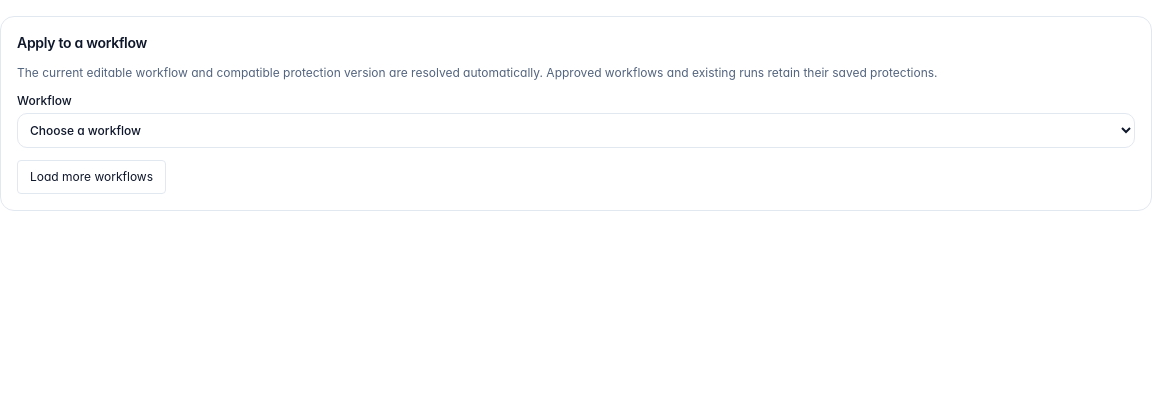
Scenario: selects a workflow without showing revisions and saves the server-resolved current pin
Click the button "Load more workflows": (92, 177) [17,160,166,194]
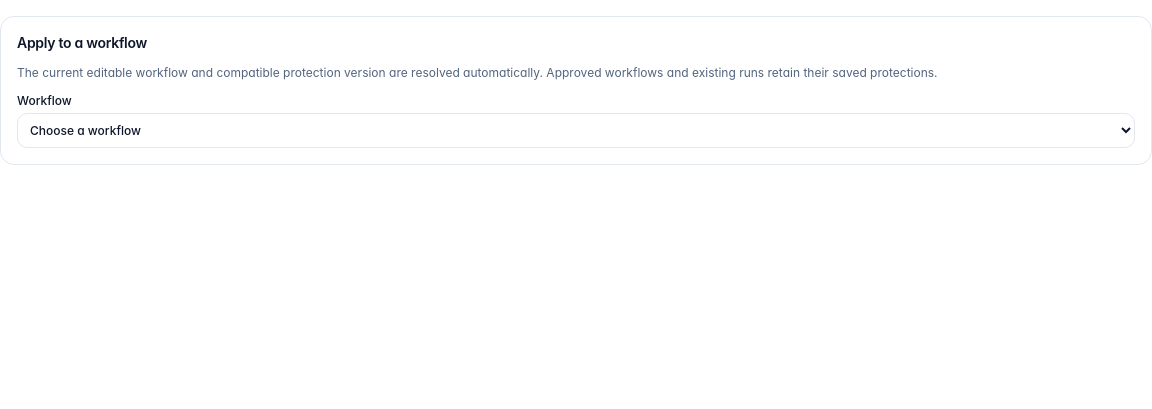
Select "Later draft" in the dropdown named "Guardrail workflow": (576, 130) [17,113,1135,148]
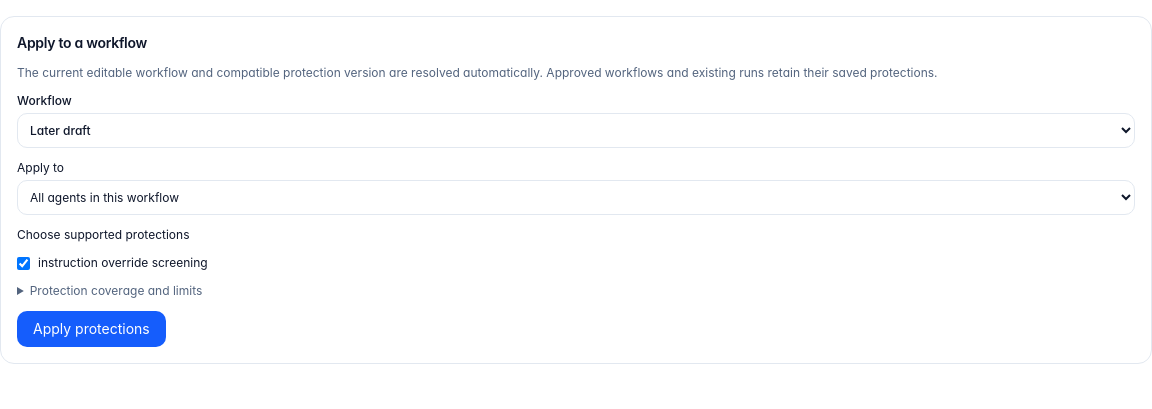
Click the button "Apply protections": (91, 329) [17,311,166,347]
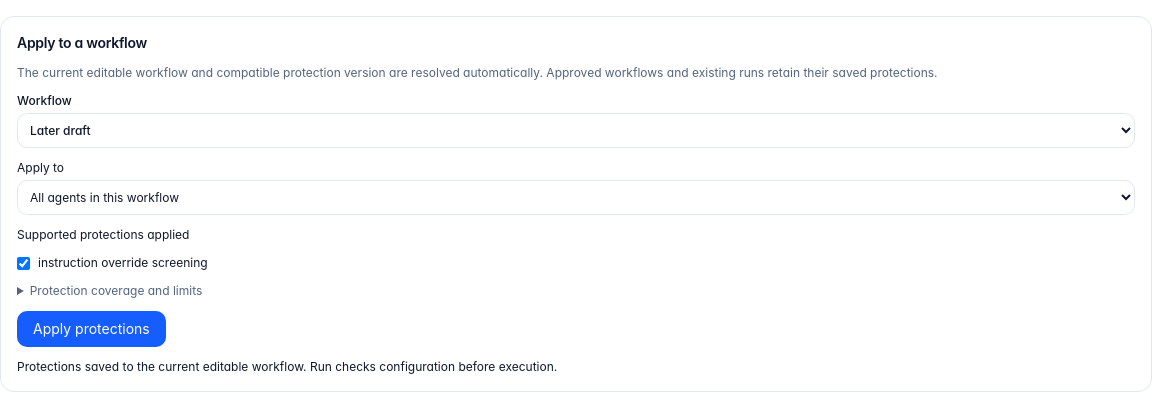
Now the text "Protections saved to the current" is shown, box [17,359,557,374]
